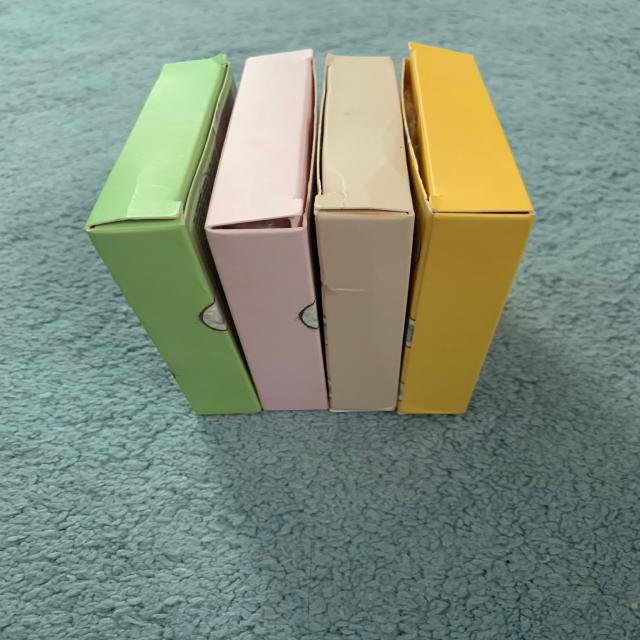makeup: (75, 55, 561, 426)
